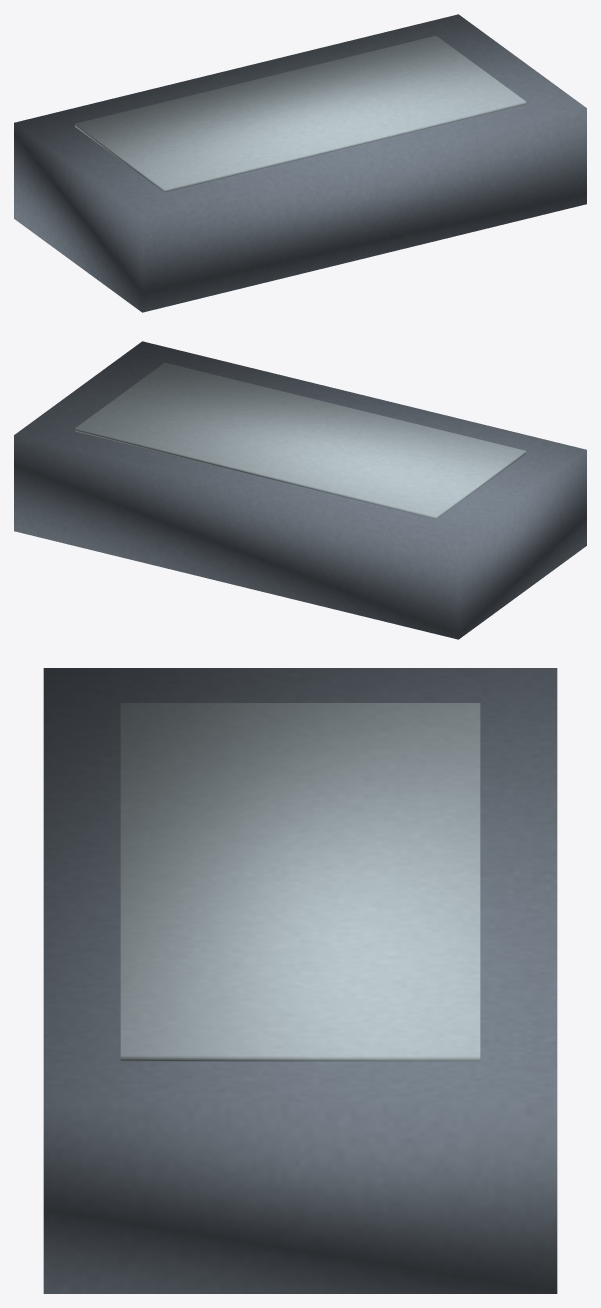
3 renders of one model, top to bottom at view 1: azimuth 30°, elevation 25°; view 2: azimuth 150°, elevation 25°; view 3: azimuth 270°, elevation 25°, orthographic. The views are drawn at different scales.
Visible parts, largest first — view 1: 0005_Polymer_Grey, 0004_Lead_Tin; view 2: 0005_Polymer_Grey, 0004_Lead_Tin; view 3: 0005_Polymer_Grey, 0004_Lead_Tin.
Boxes of the visible parts, x1,y1,x2,y2 form: 0005_Polymer_Grey: (14,14,586,312); 0004_Lead_Tin: (75,35,525,192); 0005_Polymer_Grey: (14,341,586,639); 0004_Lead_Tin: (75,362,525,519); 0005_Polymer_Grey: (43,668,557,1293); 0004_Lead_Tin: (120,703,480,1061).
Bounding box in the file's own units: 0.008 × 0.00173 × 0.004.
Materials: 3 (3 with a texture image).
